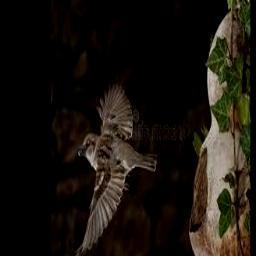Sparrow: (73, 82, 158, 256)
